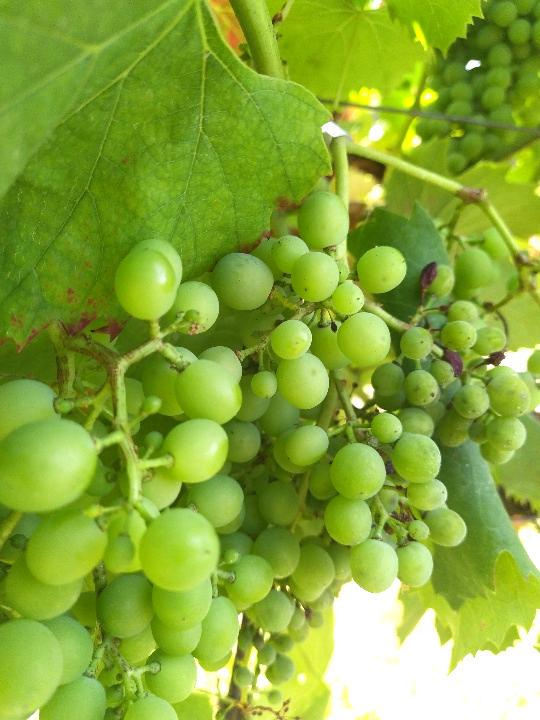grape: (2, 244, 268, 717), (276, 195, 534, 592)
